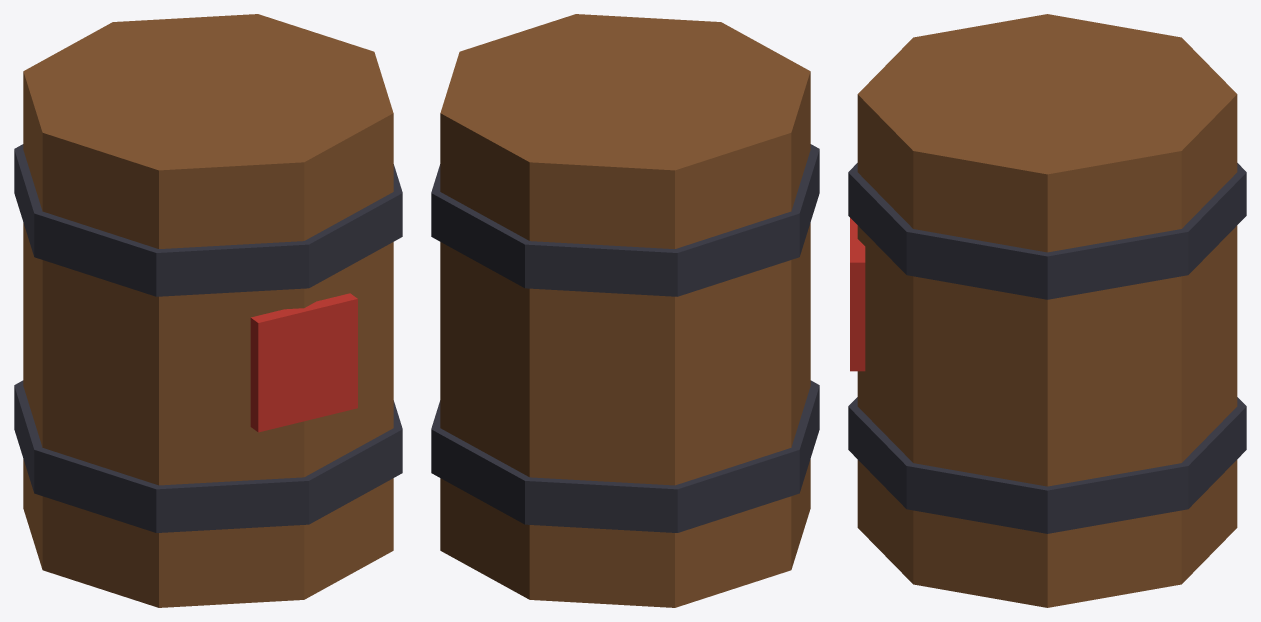
File: env_r13_rum_barrel.glb
The picture shows the model from 3 angles, left to right: view 1: azimuth 30°, elevation 25°; view 2: azimuth 150°, elevation 25°; view 3: azimuth 270°, elevation 25°; orthographic projection.
Parts seen in each view (by area): view 1: env_r13_rum_barrel; view 2: env_r13_rum_barrel; view 3: env_r13_rum_barrel.
Part boxes in pixels (x1,y1,x2,y2): env_r13_rum_barrel: (14, 14, 402, 607); env_r13_rum_barrel: (431, 14, 819, 607); env_r13_rum_barrel: (848, 14, 1246, 607).
Size of the model in its own units: 1 by 1.2 by 1.
Materials: 1 (1 with a texture image).
